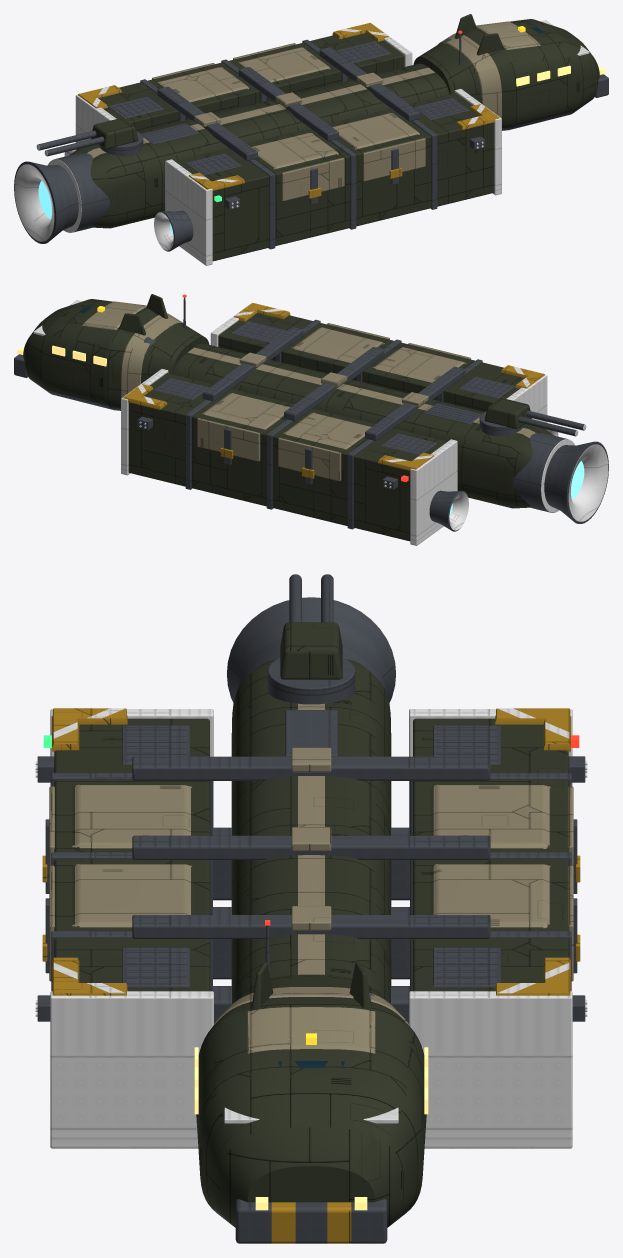
Rendered from mule_production_v1.glb.
3 renders of one model, top to bottom at view 1: azimuth 30°, elevation 25°; view 2: azimuth 150°, elevation 25°; view 3: azimuth 270°, elevation 25°, orthographic. The views are drawn at different scales.
Parts seen in each view (by area): view 1: LOD0_Hull, LOD0_Mechanical, LOD0_Armor, LOD0_MechanicalDark, LOD0_Warning, LOD0_Livery, LOD0_HOOK_SECONDARY_TURRET_Mechanical, LOD0_HOOK_SECONDARY_TURRET_Hull, LOD0_Lights_Warm, LOD0_HOOK_DRIVE_CORE; view 2: LOD0_Hull, LOD0_Mechanical, LOD0_Armor, LOD0_MechanicalDark, LOD0_Warning, LOD0_Livery, LOD0_HOOK_SECONDARY_TURRET_Mechanical, LOD0_HOOK_SECONDARY_TURRET_Hull, LOD0_Lights_Warm, LOD0_HOOK_DRIVE_CORE; view 3: LOD0_Hull, LOD0_Mechanical, LOD0_MechanicalDark, LOD0_Armor, LOD0_Warning, LOD0_HOOK_ARMOR_BUMPER_Mechanical, LOD0_Livery, LOD0_HOOK_SECONDARY_TURRET_Mechanical, LOD0_HOOK_SECONDARY_TURRET_Hull, LOD0_HOOK_ARMOR_BUMPER_Warning, LOD0_Lights_Warm.
Part boxes in pixels (x1,y1,x2,y2): LOD0_Hull: (69,14,599,261); LOD0_Mechanical: (14,39,593,251); LOD0_Armor: (152,21,540,201); LOD0_MechanicalDark: (14,20,589,265); LOD0_Warning: (78,23,499,198); LOD0_Livery: (87,67,434,157); LOD0_HOOK_SECONDARY_TURRET_Mechanical: (38,130,143,156); LOD0_HOOK_SECONDARY_TURRET_Hull: (91,118,138,149); LOD0_Lights_Warm: (516,65,605,86); LOD0_HOOK_DRIVE_CORE: (38,181,173,235); LOD0_Hull: (23,294,553,541); LOD0_Mechanical: (29,319,608,531); LOD0_Armor: (82,301,470,481); LOD0_MechanicalDark: (33,300,608,545); LOD0_Warning: (123,303,544,478); LOD0_Livery: (188,347,535,437); LOD0_HOOK_SECONDARY_TURRET_Mechanical: (479,410,584,436); LOD0_HOOK_SECONDARY_TURRET_Hull: (484,398,531,429); LOD0_Lights_Warm: (17,345,106,366); LOD0_HOOK_DRIVE_CORE: (449,461,584,515); LOD0_Hull: (54,659,568,1227); LOD0_Mechanical: (37,597,585,1225); LOD0_MechanicalDark: (35,708,587,1148); LOD0_Armor: (49,747,573,1053); LOD0_Warning: (42,708,580,995); LOD0_HOOK_ARMOR_BUMPER_Mechanical: (235,1199,387,1243); LOD0_Livery: (298,703,324,974); LOD0_HOOK_SECONDARY_TURRET_Mechanical: (267,574,355,704); LOD0_HOOK_SECONDARY_TURRET_Hull: (280,622,342,679); LOD0_HOOK_ARMOR_BUMPER_Warning: (271,1202,351,1243); LOD0_Lights_Warm: (194,1047,428,1210).
Size of what is drawn, in the model's own units: 16.15 by 3.32 by 6.93.
Materials: 13 (6 with a texture image).
